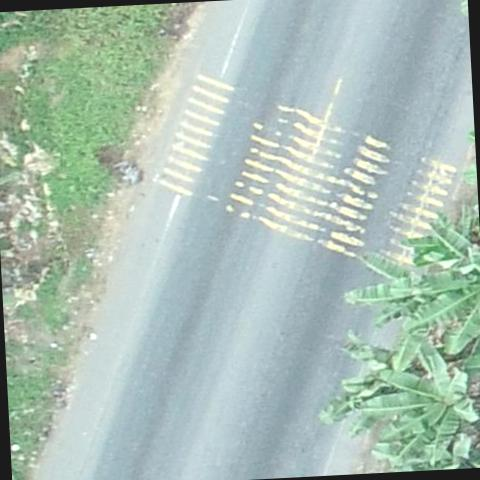Banana-plant: (342, 232, 480, 375), (360, 332, 480, 461)
